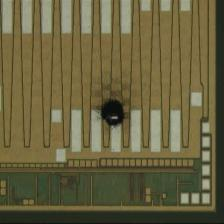PARTICLE: (93, 92, 133, 132)
